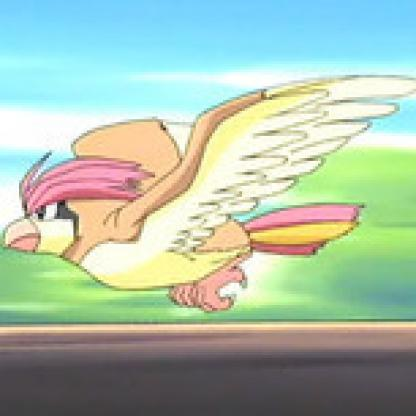Pidgeotto: (7, 62, 415, 339)
